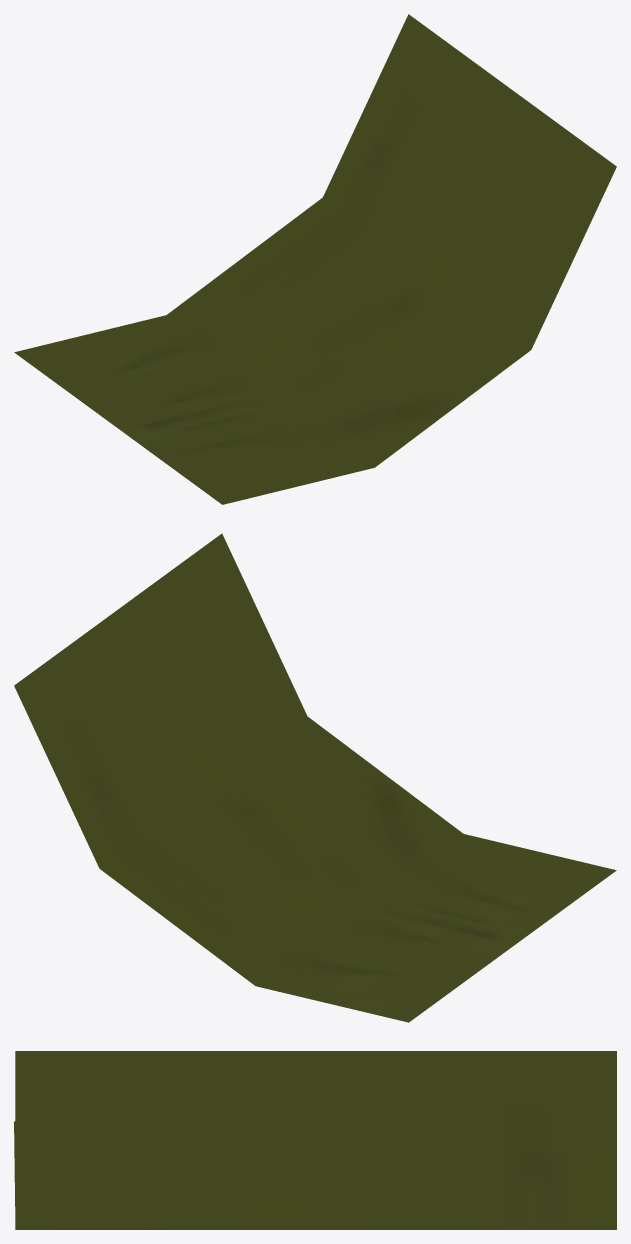
The model's file is grass_clump_00f.fbx.
3 renders of one model, top to bottom at view 1: azimuth 30°, elevation 25°; view 2: azimuth 150°, elevation 25°; view 3: azimuth 270°, elevation 25°, orthographic. The views are drawn at different scales.
Parts seen in each view (by area): view 1: grass_clump_00f; view 2: grass_clump_00f; view 3: grass_clump_00f.
Part boxes in pixels (x1,y1,x2,y2): grass_clump_00f: (14, 14, 616, 504); grass_clump_00f: (14, 533, 616, 1022); grass_clump_00f: (14, 1051, 616, 1229).
Size of the model in its own units: 60.24 by 35.27 by 55.2.
